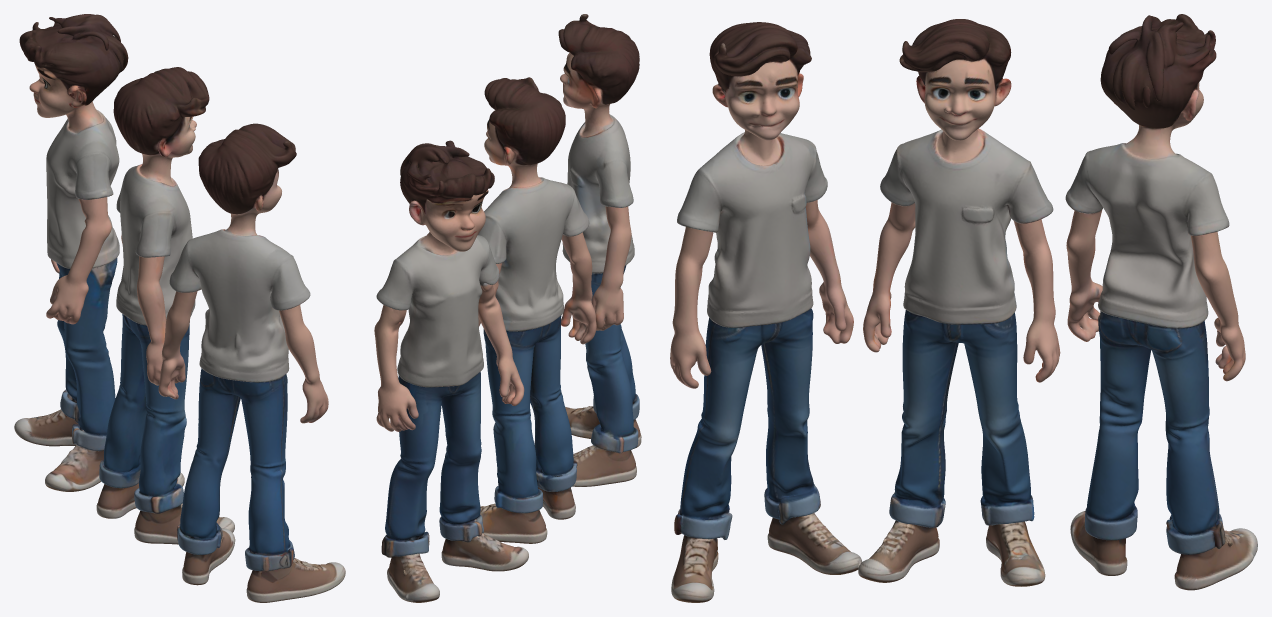
File: human_character.glb
3 renders of one model, left to right at view 1: azimuth 30°, elevation 25°; view 2: azimuth 150°, elevation 25°; view 3: azimuth 270°, elevation 25°, orthographic. The views are drawn at different scales.
Parts seen in each view (by area): view 1: tripo_node_7f92dd99-f5ba-42ff-ac0e-62a1309cc740; view 2: tripo_node_7f92dd99-f5ba-42ff-ac0e-62a1309cc740; view 3: tripo_node_7f92dd99-f5ba-42ff-ac0e-62a1309cc740.
Boxes of the visible parts, bbox=[...] form: tripo_node_7f92dd99-f5ba-42ff-ac0e-62a1309cc740: bbox=[14, 14, 345, 602]; tripo_node_7f92dd99-f5ba-42ff-ac0e-62a1309cc740: bbox=[374, 14, 641, 602]; tripo_node_7f92dd99-f5ba-42ff-ac0e-62a1309cc740: bbox=[670, 14, 1257, 602].
Size of the model in its own units: 0.3171 by 1 by 0.9738.
Materials: 1 (1 with a texture image).
